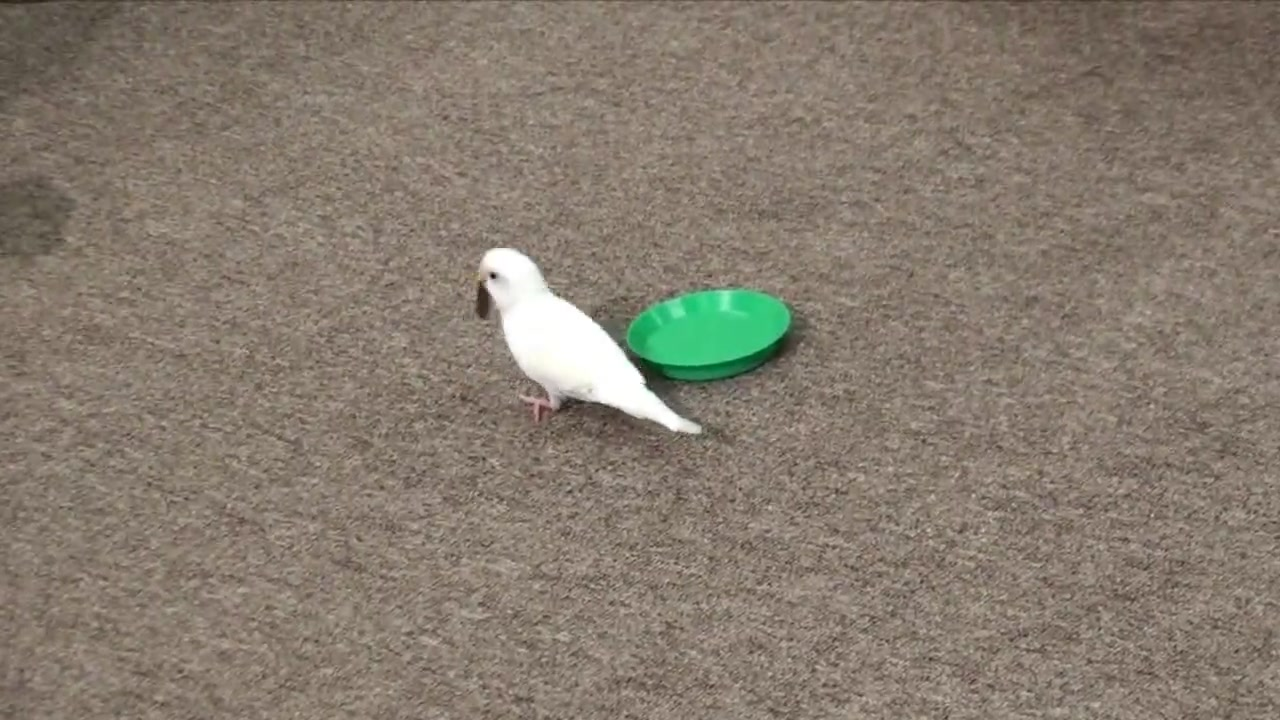bird: (476, 249, 703, 434)
